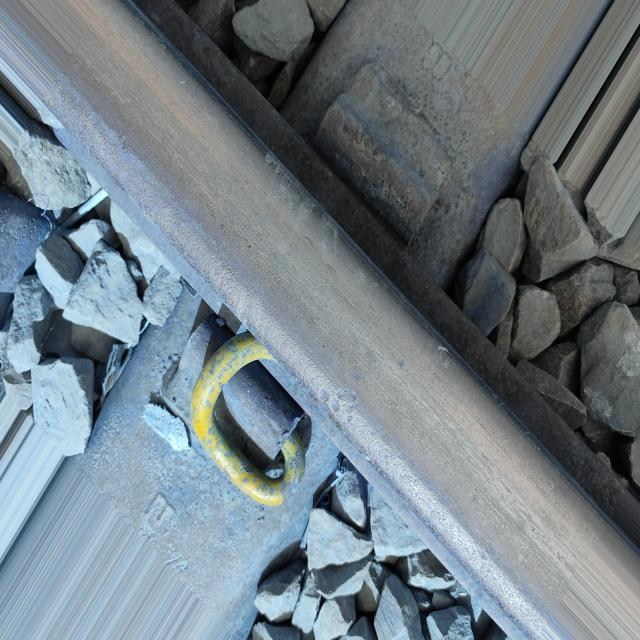Good Fasteners: (164, 317, 312, 505)
Missing Fastener: (292, 51, 473, 265)
